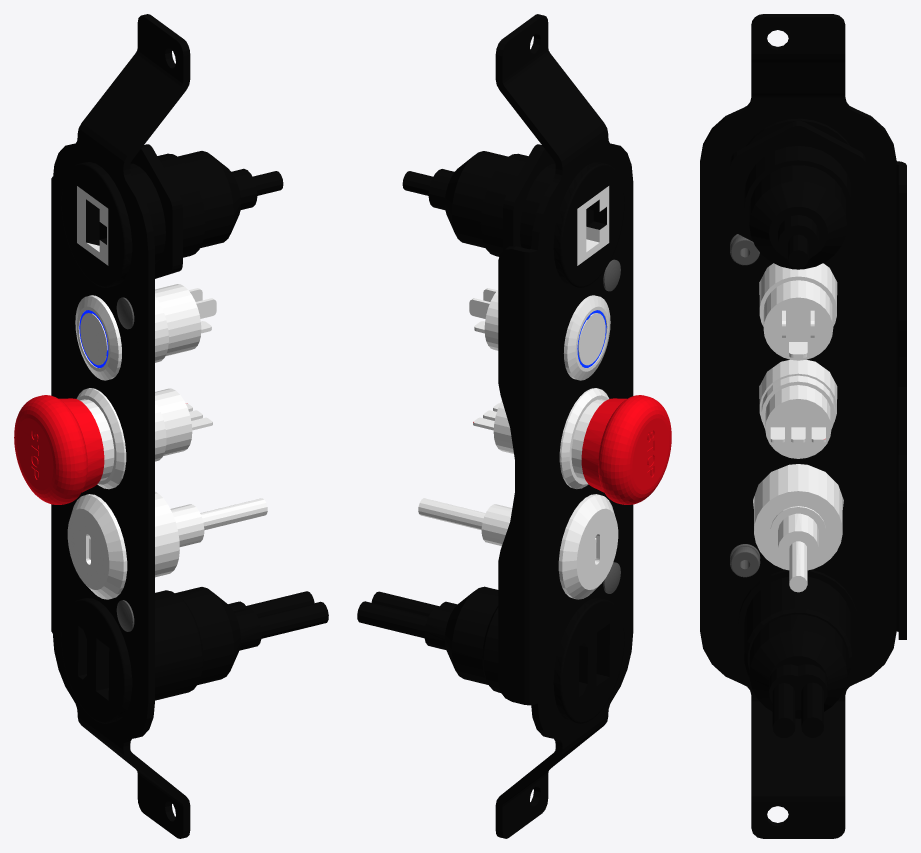
Rendered from button.glb.
3 views of the same model, side by side, from view 1: azimuth 30°, elevation 25°; view 2: azimuth 150°, elevation 25°; view 3: azimuth 270°, elevation 25° (orthographic). The views are drawn at different scales.
Visible parts, largest first — view 1: panel, hdm/usb, lan, stop, usb-c, reset; view 2: panel, lan, hdm/usb, stop, usb-c, reset; view 3: panel, lan, hdm/usb, usb-c, reset, stop, rubber plug 2, rubber plug1.
Part boxes in pixels (box(x1,y1,x2,y2)): panel: box(51, 14, 190, 838); hdm/usb: box(61, 587, 328, 723); lan: box(61, 144, 283, 287); stop: box(14, 388, 212, 504); usb-c: box(67, 491, 267, 599); reset: box(75, 284, 216, 380); panel: box(495, 14, 633, 838); lan: box(402, 144, 624, 287); hdm/usb: box(357, 586, 624, 723); stop: box(473, 388, 671, 504); usb-c: box(418, 494, 618, 599); reset: box(469, 288, 610, 380); panel: box(700, 14, 906, 838); lan: box(730, 118, 865, 269); hdm/usb: box(738, 569, 858, 737); usb-c: box(753, 464, 843, 592); reset: box(759, 263, 837, 360); stop: box(759, 360, 837, 458); rubber plug 2: box(730, 544, 760, 577); rubber plug1: box(730, 234, 759, 265).
Size of the model in its own units: 0.0817 by 0.2212 by 0.0505.
